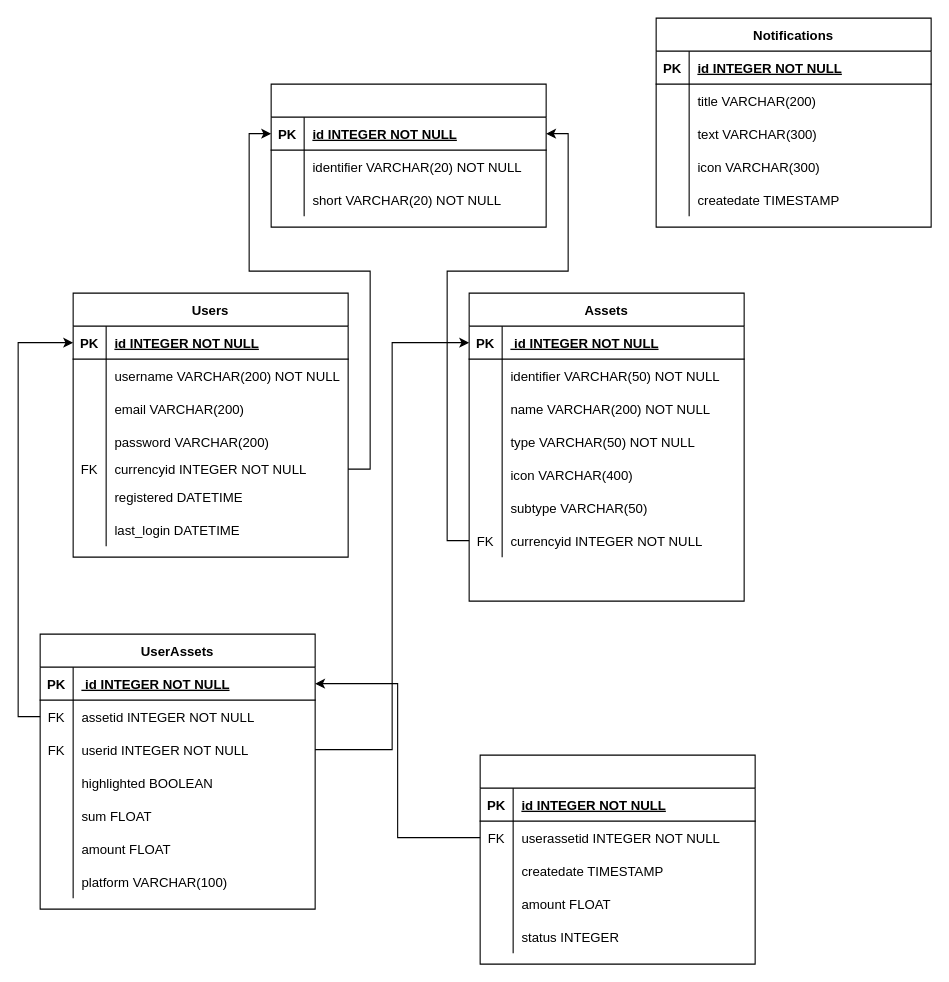
Image size: 949x982. Some labels were removed from this diagram. Each missing label, with the box of its shape:
Currencies: (270, 83, 546, 227)
Transactions: (479, 754, 755, 964)
